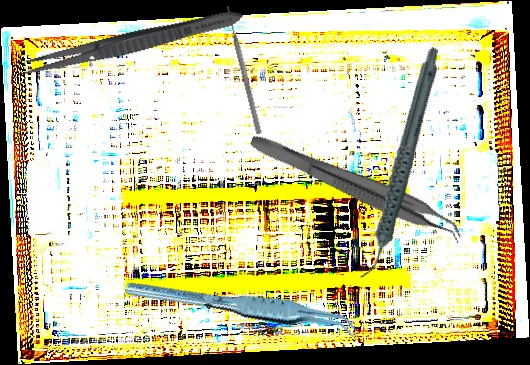Dressing Forceps: (12, 3, 247, 84)
Handpiece: (314, 44, 485, 283)
Pusher: (223, 5, 264, 135)
Tissue Forceps: (243, 131, 469, 247), (123, 254, 364, 361)
